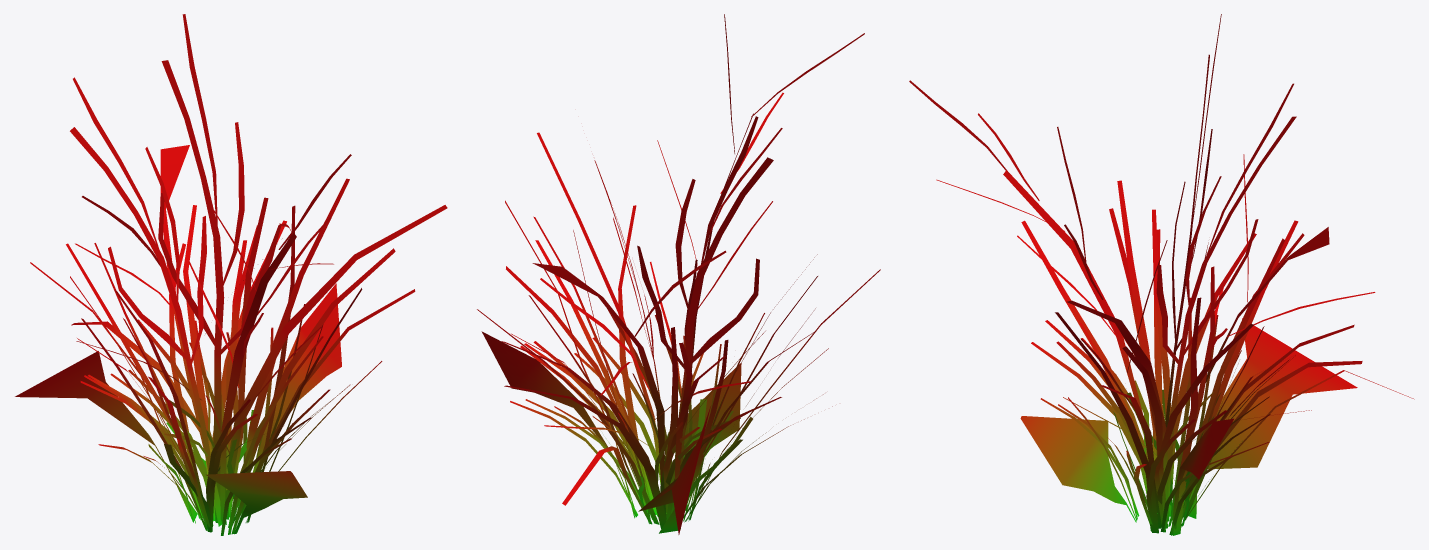
The model's file is Var1_LOD1.fbx.
3 views of the same model, side by side, from view 1: azimuth 30°, elevation 25°; view 2: azimuth 150°, elevation 25°; view 3: azimuth 270°, elevation 25° (orthographic).
Visible parts, largest first — view 1: _babc_Var1_LOD1; view 2: _babc_Var1_LOD1; view 3: _babc_Var1_LOD1.
Boxes of the visible parts, x1,y1,x2,y2 form: _babc_Var1_LOD1: (15, 14, 447, 535); _babc_Var1_LOD1: (477, 14, 880, 534); _babc_Var1_LOD1: (909, 14, 1414, 535).
Size of the model in its own units: 89.24 by 119 by 121.
